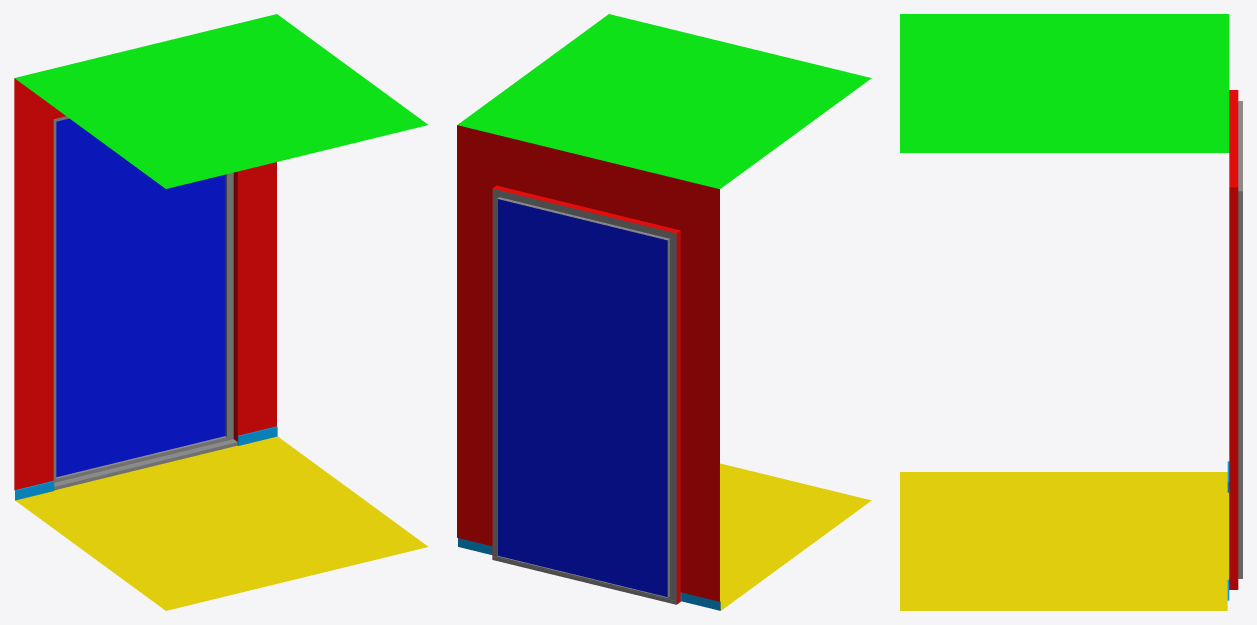
Rendered from SM_Window_C.FBX.
3 views of the same model, side by side, from view 1: azimuth 30°, elevation 25°; view 2: azimuth 150°, elevation 25°; view 3: azimuth 270°, elevation 25° (orthographic). The views are drawn at different scales.
Parts seen in each view (by area): view 1: SM_Window_C, SM_Glass_C; view 2: SM_Window_C, SM_Glass_C; view 3: SM_Window_C.
Part boxes in pixels (<box>): SM_Window_C: <box>14,14,428,610</box>; SM_Glass_C: <box>56,118,225,477</box>; SM_Window_C: <box>457,14,871,610</box>; SM_Glass_C: <box>497,199,667,596</box>; SM_Window_C: <box>900,14,1242,610</box>.
Size of the model in its own units: 2 by 3.07 by 2.08.
